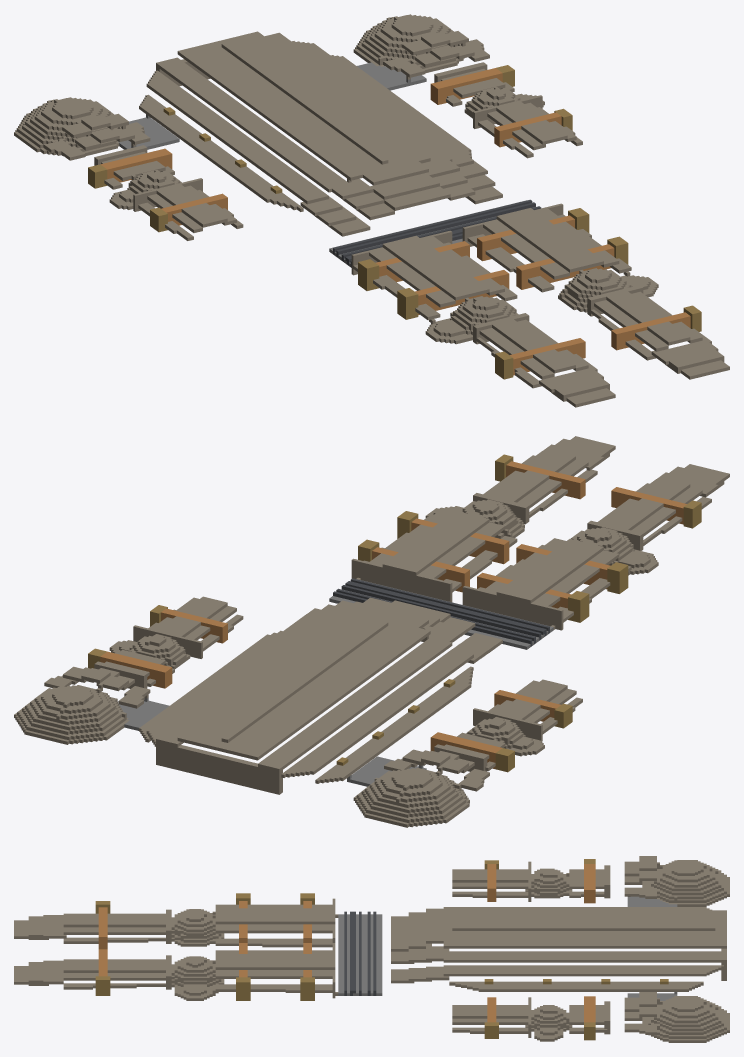
The model's file is armor_qt_plate.glb.
3 renders of one model, top to bottom at view 1: azimuth 30°, elevation 25°; view 2: azimuth 150°, elevation 25°; view 3: azimuth 270°, elevation 25°, orthographic. The views are drawn at different scales.
Parts seen in each view (by area): view 1: armor_qt_plate:compound; view 2: armor_qt_plate:compound; view 3: armor_qt_plate:compound.
Part boxes in pixels (left/top/right/bottom): armor_qt_plate:compound: left=14, top=14, right=729, bottom=407; armor_qt_plate:compound: left=14, top=436, right=729, bottom=827; armor_qt_plate:compound: left=14, top=856, right=729, bottom=1042.
Size of the model in its own units: 0.84 by 0.066 by 1.47.
